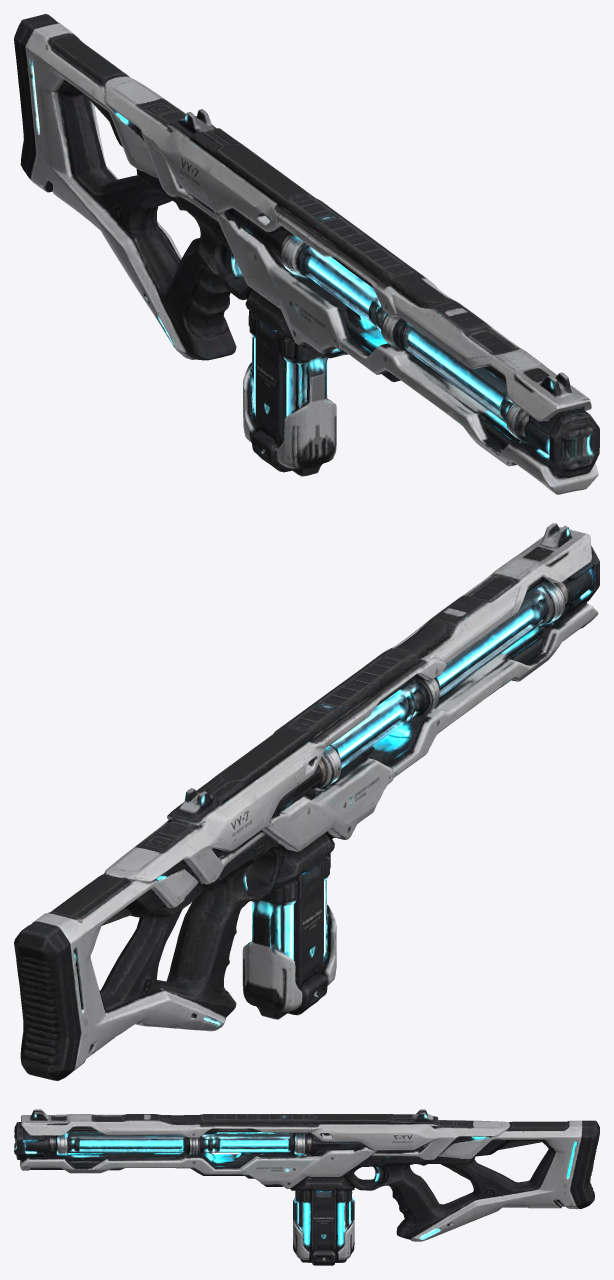
Rendered from plasma_sniper_cyan.medium.glb.
3 renders of one model, top to bottom at view 1: azimuth 30°, elevation 25°; view 2: azimuth 150°, elevation 25°; view 3: azimuth 270°, elevation 25°, orthographic. The views are drawn at different scales.
Parts seen in each view (by area): view 1: model; view 2: model; view 3: model.
Part boxes in pixels (left/top/right/bottom): model: left=14, top=14, right=599, bottom=494; model: left=14, top=523, right=599, bottom=1080; model: left=14, top=1109, right=599, bottom=1265.
Bounding box in the file's own units: 0.064 × 0.298 × 1.05.
Materials: 1 (1 with a texture image).
